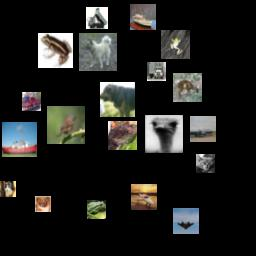airplane: (190, 116, 216, 142), (173, 208, 199, 234), (131, 184, 157, 210)
bird: (47, 106, 85, 144), (145, 115, 183, 153)
cat: (196, 154, 215, 173), (0, 181, 16, 197)
deer: (173, 73, 202, 102)
dog: (79, 33, 117, 71), (100, 82, 135, 117), (35, 196, 51, 212)
frog: (38, 33, 73, 68), (108, 121, 137, 150), (161, 30, 190, 59), (87, 200, 106, 219)
ship: (2, 122, 37, 157), (130, 4, 156, 30)
truck: (86, 7, 108, 29), (147, 62, 166, 81), (22, 92, 41, 111)
